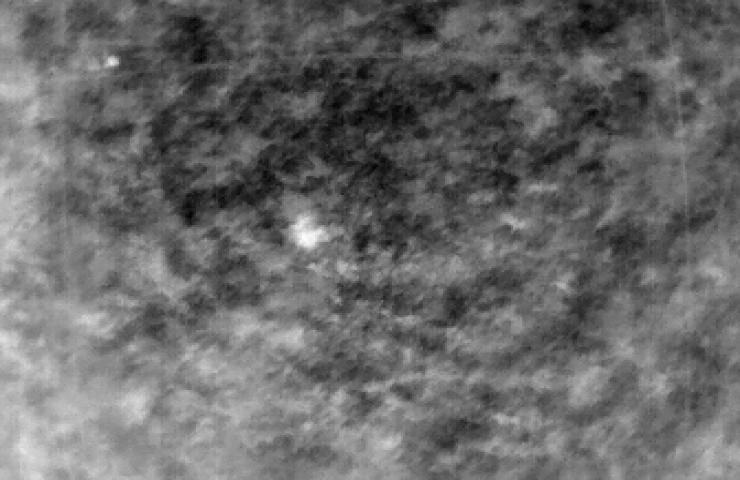landmines: (293, 218, 327, 252)
